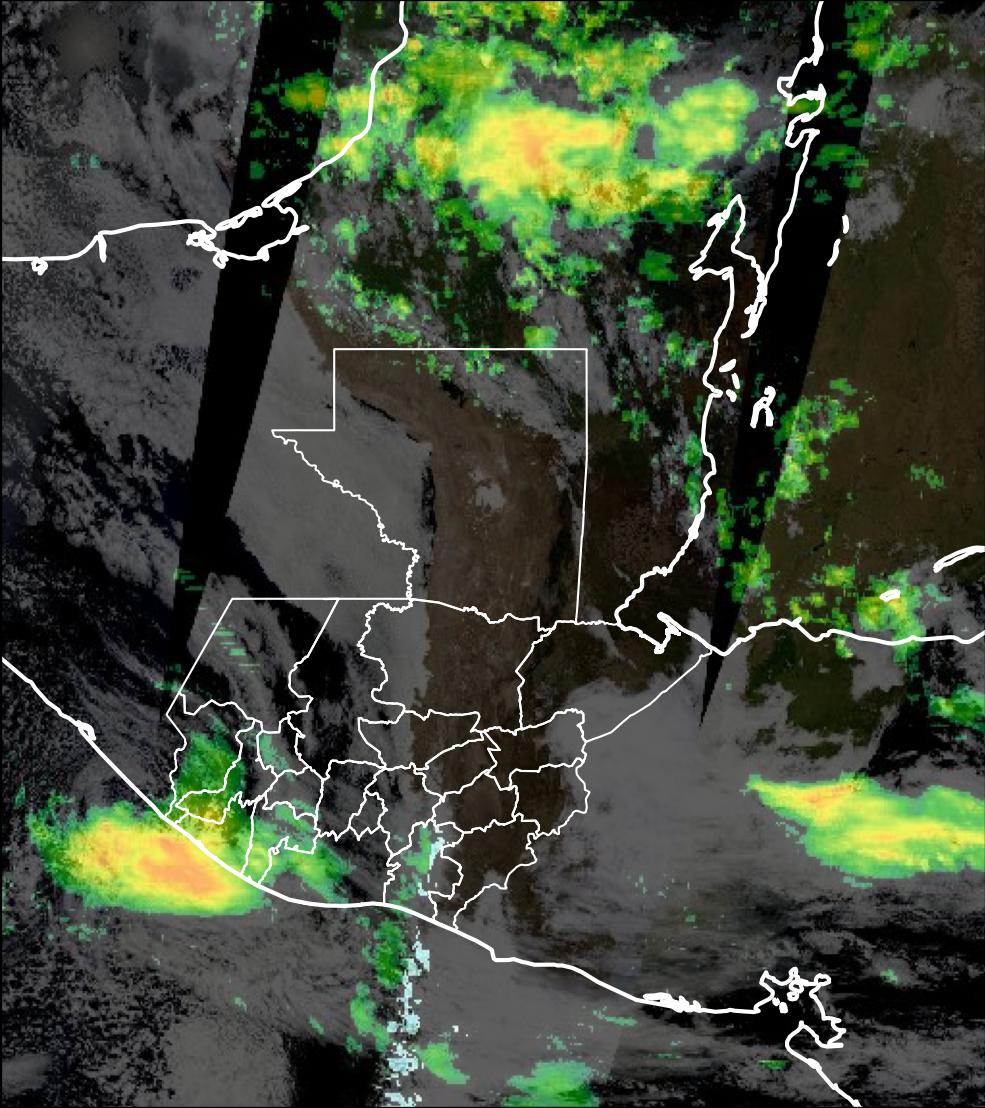precipitacion: (760, 767, 985, 879), (68, 805, 244, 918), (482, 108, 643, 213)
